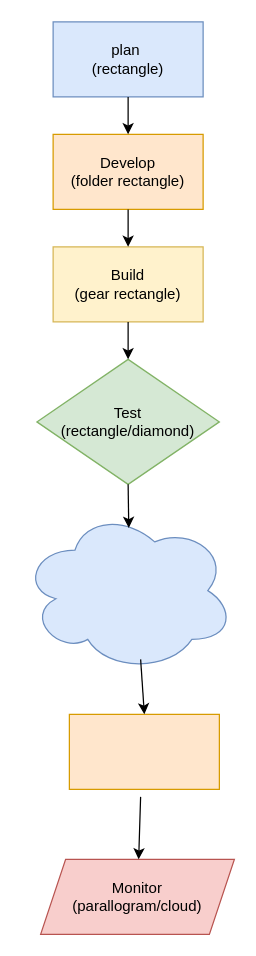
This 256x956 diagram has some shape labels left out. Here are the shapes that lost their labels. From the top down, the box of each, then its label:
(21, 508, 234, 672): Deploy (cloud/cylinder)
(68, 713, 219, 789): Operate (gear/rectangle)
